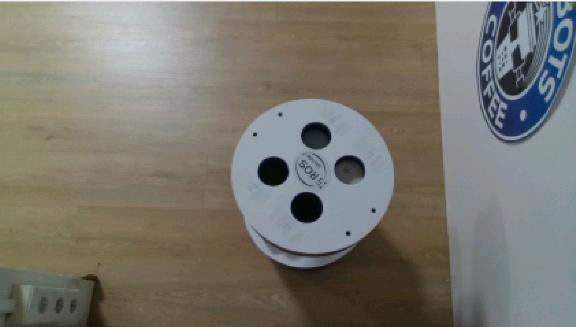hole: (290, 188, 325, 225), (254, 154, 291, 188), (299, 119, 334, 152), (333, 154, 368, 186)
